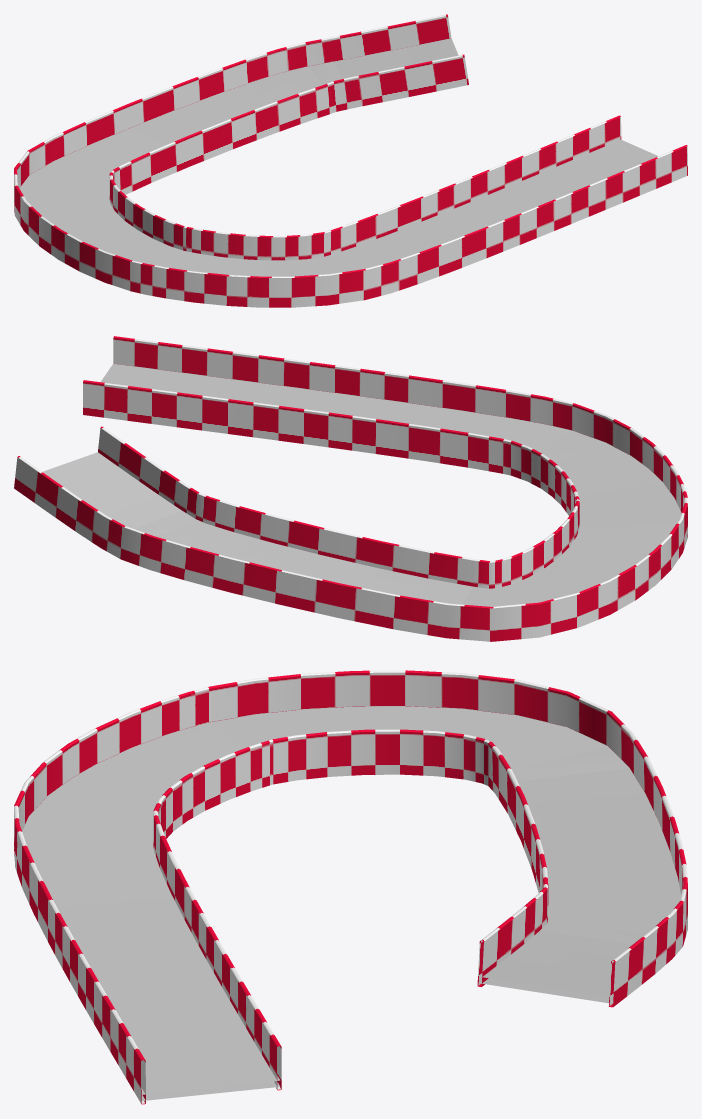
File: aws_Track_03_visual.DAE
3 renders of one model, top to bottom at view 1: azimuth 30°, elevation 25°; view 2: azimuth 150°, elevation 25°; view 3: azimuth 270°, elevation 25°, orthographic. The views are drawn at different scales.
Parts seen in each view (by area): view 1: aws_Track_03_visual; view 2: aws_Track_03_visual; view 3: aws_Track_03_visual.
Boxes of the visible parts, left/top/right/bottom form: aws_Track_03_visual: left=14, top=14, right=687, bottom=307; aws_Track_03_visual: left=14, top=336, right=687, bottom=641; aws_Track_03_visual: left=14, top=670, right=687, bottom=1104.
Bounding box in the file's own units: 1374 × 994 × 151.
